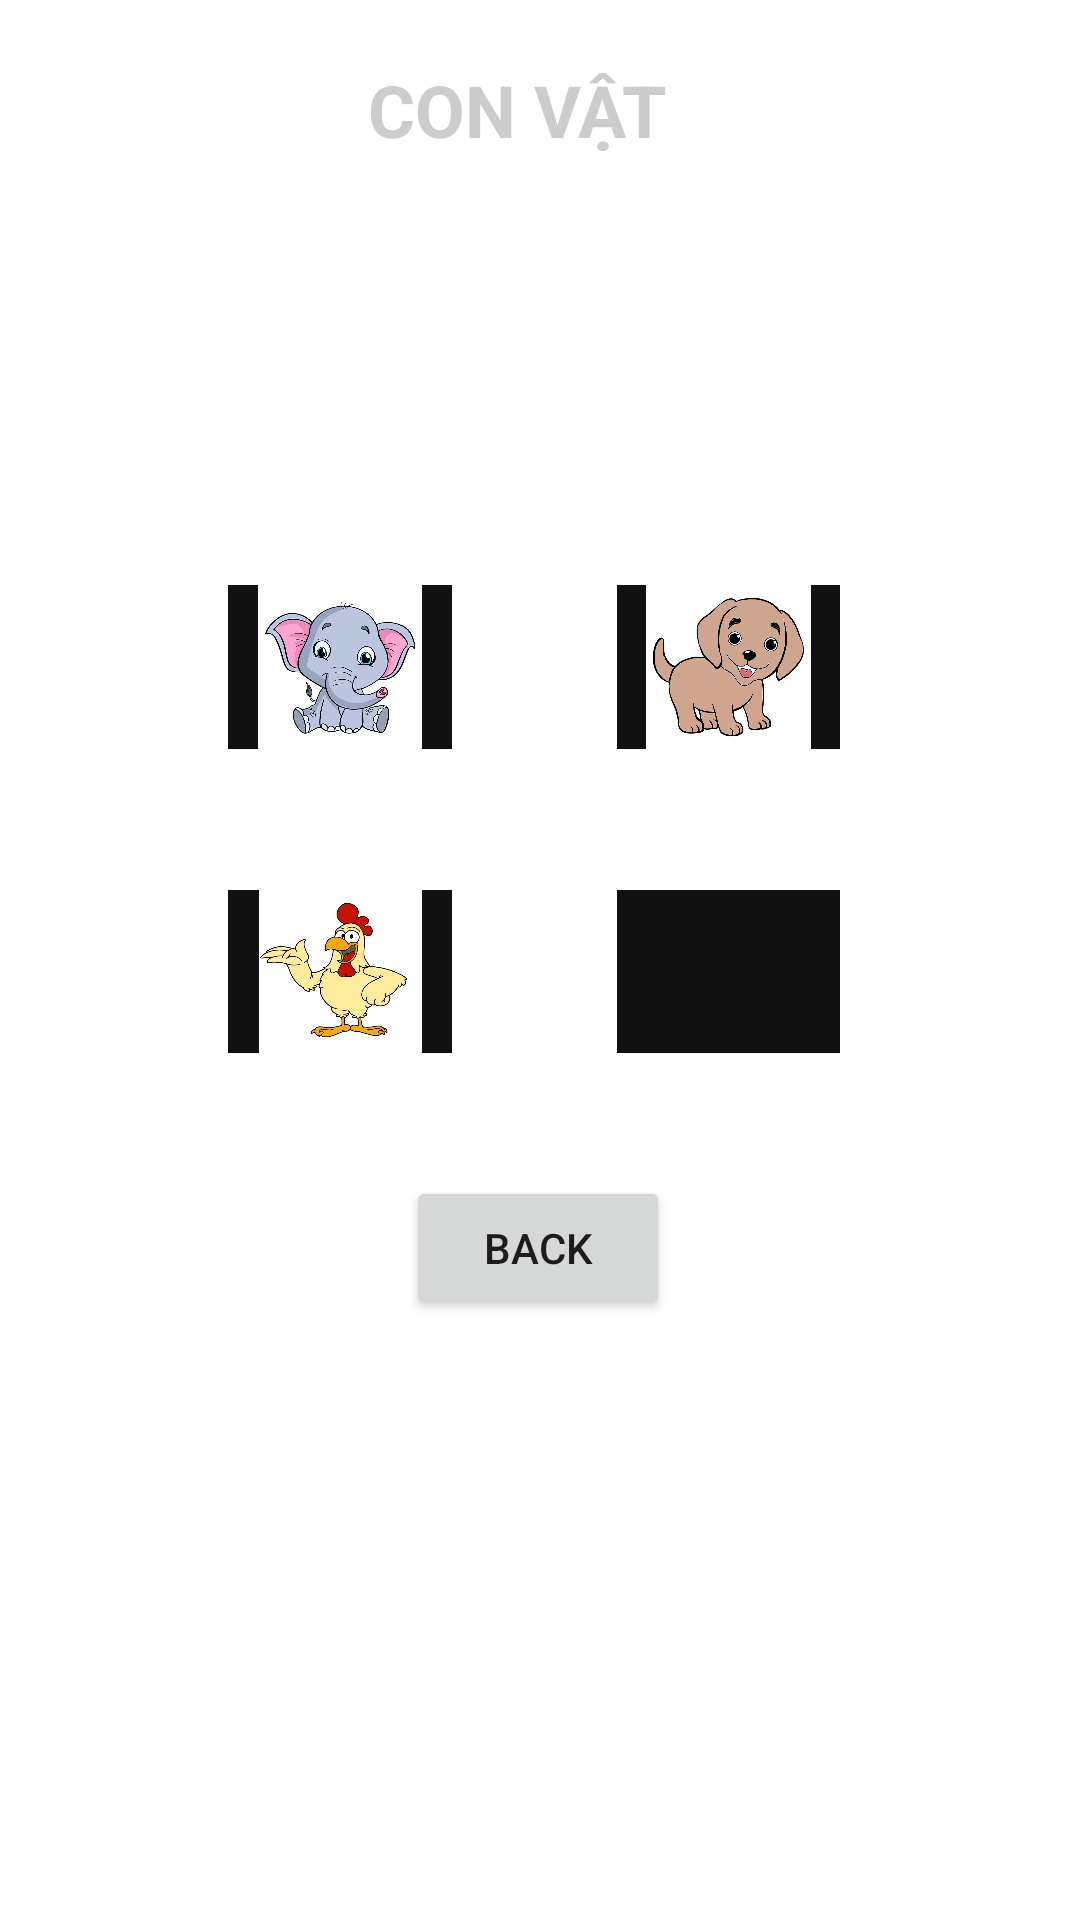

Screen size 1080×1920. Icon name, then its center in pixels as (x=x, y=y):
con cho: (x=728, y=667)
con ga: (x=340, y=971)
con voi: (x=340, y=667)
